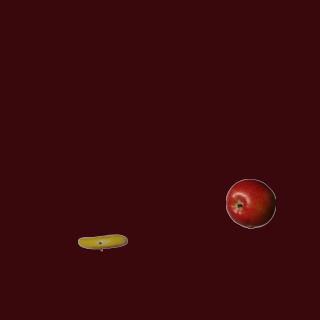Apple Braeburn: (225, 178, 275, 228)
Banana: (77, 217, 127, 267)
